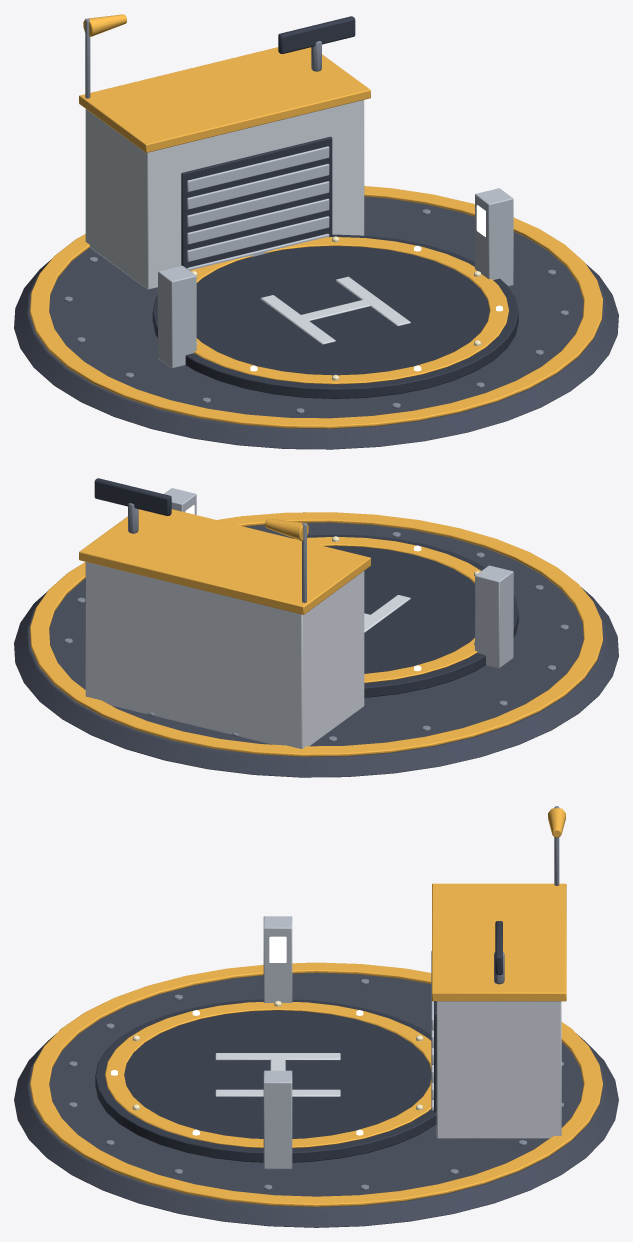
Rendered from hangar.fbx.
The picture shows the model from 3 angles, top to bottom: view 1: azimuth 30°, elevation 25°; view 2: azimuth 150°, elevation 25°; view 3: azimuth 270°, elevation 25°; orthographic projection.
Visible parts, largest first — view 1: hangar_Koerper, hangar_Dreh; view 2: hangar_Koerper, hangar_Dreh; view 3: hangar_Koerper, hangar_Dreh.
Boxes of the visible parts, left/top/right/bottom form: hangar_Koerper: left=14, top=14, right=618, bottom=449; hangar_Dreh: left=278, top=16, right=355, bottom=71; hangar_Koerper: left=14, top=488, right=618, bottom=777; hangar_Dreh: left=94, top=478, right=171, bottom=533; hangar_Koerper: left=14, top=806, right=618, bottom=1227; hangar_Dreh: left=494, top=921, right=504, bottom=984.
Bounding box in the file's own units: 6.29 × 2.76 × 6.29.
